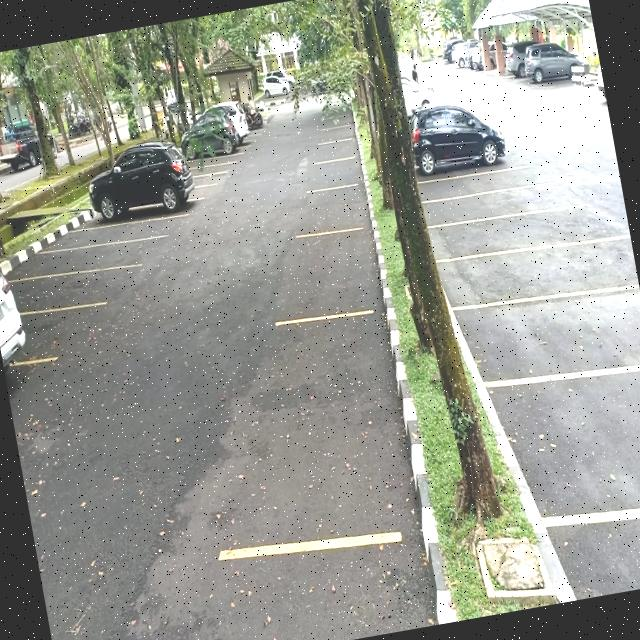empty: (241, 300, 418, 564), (508, 351, 640, 537), (464, 273, 640, 394), (440, 230, 610, 310), (429, 198, 583, 267), (286, 222, 384, 324), (422, 176, 564, 231), (15, 262, 120, 321), (420, 160, 542, 206), (21, 235, 136, 283), (59, 212, 166, 255), (302, 179, 368, 237)
occupied: (79, 154, 200, 233), (410, 119, 510, 185)
